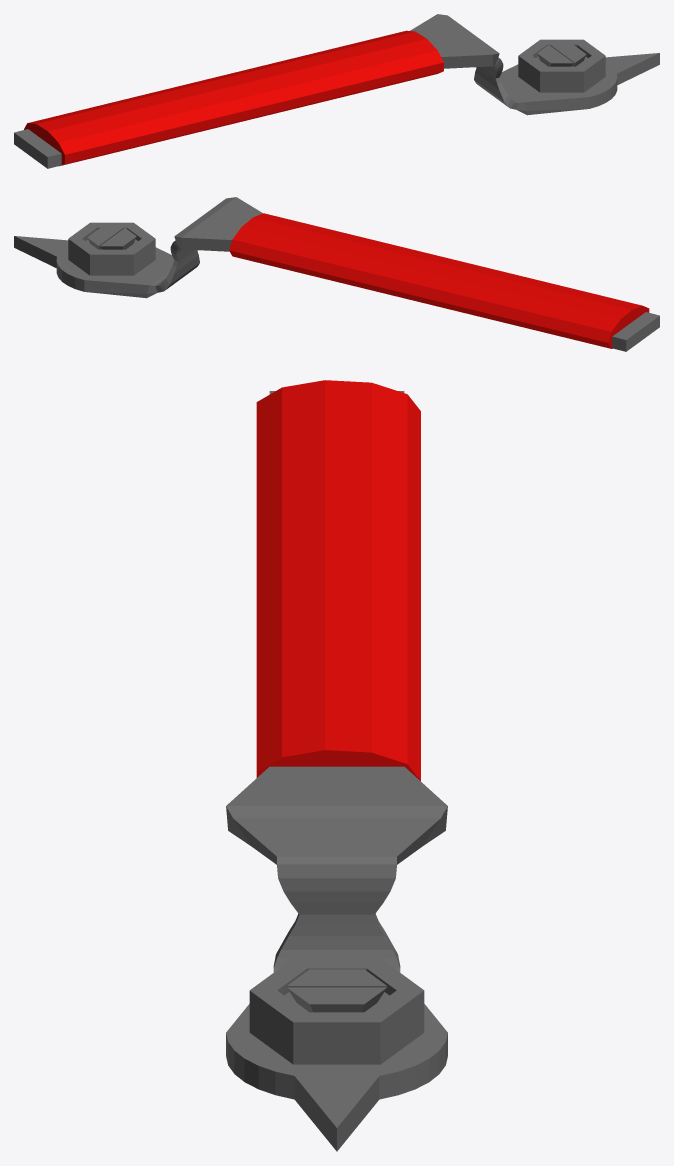
The model's file is ventilRED.fbx.
3 renders of one model, top to bottom at view 1: azimuth 30°, elevation 25°; view 2: azimuth 150°, elevation 25°; view 3: azimuth 270°, elevation 25°, orthographic. The views are drawn at different scales.
Visible parts, largest first — view 1: Cylinder.001, Cylinder; view 2: Cylinder.001, Cylinder; view 3: Cylinder.001, Cylinder.
Part boxes in pixels (bbox=[...]): Cylinder.001: bbox=[24, 30, 443, 166]; Cylinder: bbox=[14, 14, 659, 168]; Cylinder.001: bbox=[229, 213, 649, 348]; Cylinder: bbox=[14, 197, 659, 351]; Cylinder.001: bbox=[256, 380, 420, 780]; Cylinder: bbox=[226, 391, 447, 1151].
Size of the model in its own units: 1663 by 217 by 254.
